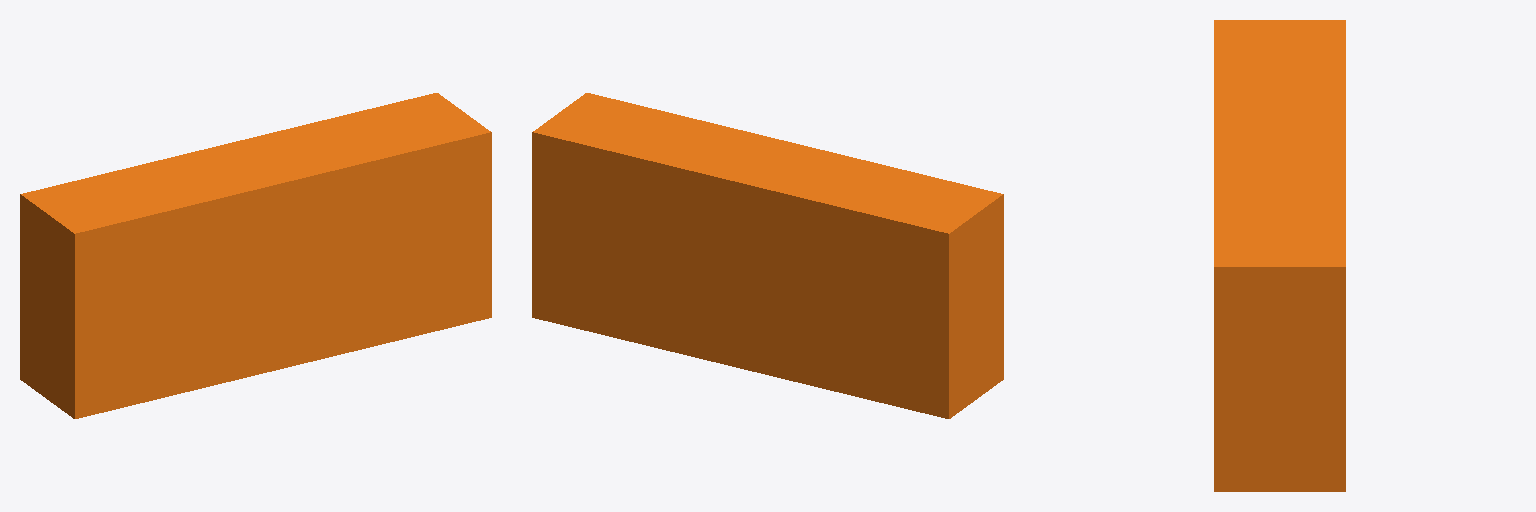
URDF robot description (ji_xi_combo_fixture_box):
<?xml version="1.0"?>
<robot name="ji_xi_combo_fixture_box">
  <!--
    Simplified fallback URDF using the STEP bounding box only.
    Useful for quick collision testing.
  -->
  <link name="ji_xi_combo_fixture_link">
    <inertial>
      <origin xyz="0.152202 -0.012445 0.061600" rpy="0 0 0"/>
      <mass value="1.000000"/>
      <inertia ixx="0.005016818" ixy="0.0" ixz="0.0"
               iyy="0.025541153" iyz="0.0" izz="0.022724265"/>
    </inertial>
    <visual>
      <origin xyz="0.152202 -0.012445 0.061600" rpy="0 0 0"/>
      <geometry>
        <box size="0.509403 0.114889 0.216800"/>
      </geometry>
      <material name="orange"><color rgba="1.0 0.55 0.15 0.8"/></material>
    </visual>
    <collision>
      <origin xyz="0.152202 -0.012445 0.061600" rpy="0 0 0"/>
      <geometry>
        <box size="0.509403 0.114889 0.216800"/>
      </geometry>
    </collision>
  </link>
</robot>

--- Facts derived from the render (not from the file) ---
The picture shows the robot from 3 angles, left to right: view 1: azimuth 30°, elevation 25°; view 2: azimuth 150°, elevation 25°; view 3: azimuth 270°, elevation 25°; orthographic projection.
Robot: ji_xi_combo_fixture_box — 1 links, 0 joints (none); root link ji_xi_combo_fixture_link; default pose: all joints at 0.
Visible links, largest first — view 1: ji_xi_combo_fixture_link; view 2: ji_xi_combo_fixture_link; view 3: ji_xi_combo_fixture_link.
Boxes of the visible links, x1=… form: ji_xi_combo_fixture_link: x1=20, y1=93, x2=491, y2=418; ji_xi_combo_fixture_link: x1=532, y1=93, x2=1003, y2=418; ji_xi_combo_fixture_link: x1=1214, y1=20, x2=1345, y2=491.
Bounding box of the posed robot: 0.5094 × 0.1149 × 0.2168 m (x, y, z).
Geometry: primitives only (box / cylinder / sphere), no mesh files.
